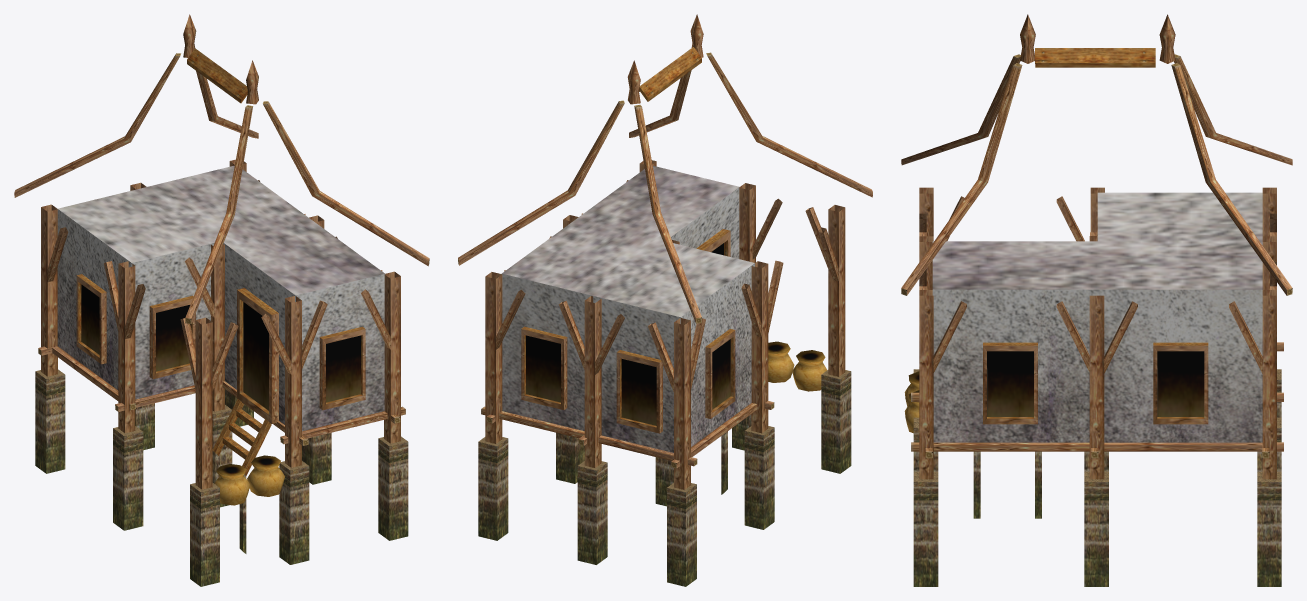
Rendered from house_01.dae.
3 views of the same model, side by side, from view 1: azimuth 30°, elevation 25°; view 2: azimuth 150°, elevation 25°; view 3: azimuth 270°, elevation 25° (orthographic). The views are drawn at different scales.
Parts seen in each view (by area): view 1: house_1; view 2: house_1; view 3: house_1.
Boxes of the visible parts, x1,y1,x2,y2 form: house_1: (14,14,429,586); house_1: (458,14,872,586); house_1: (901,14,1292,586).
Size of the model in its own units: 9.85 by 12.3 by 18.07.
